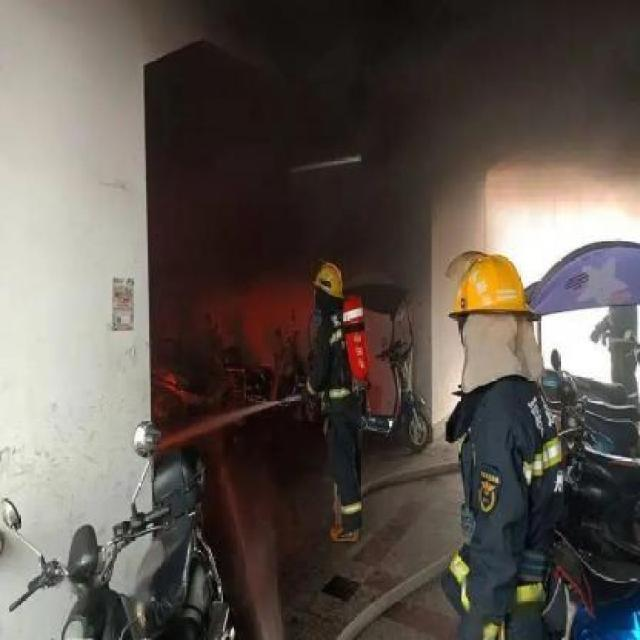Smoke: (344, 16, 636, 189), (154, 94, 408, 270)
